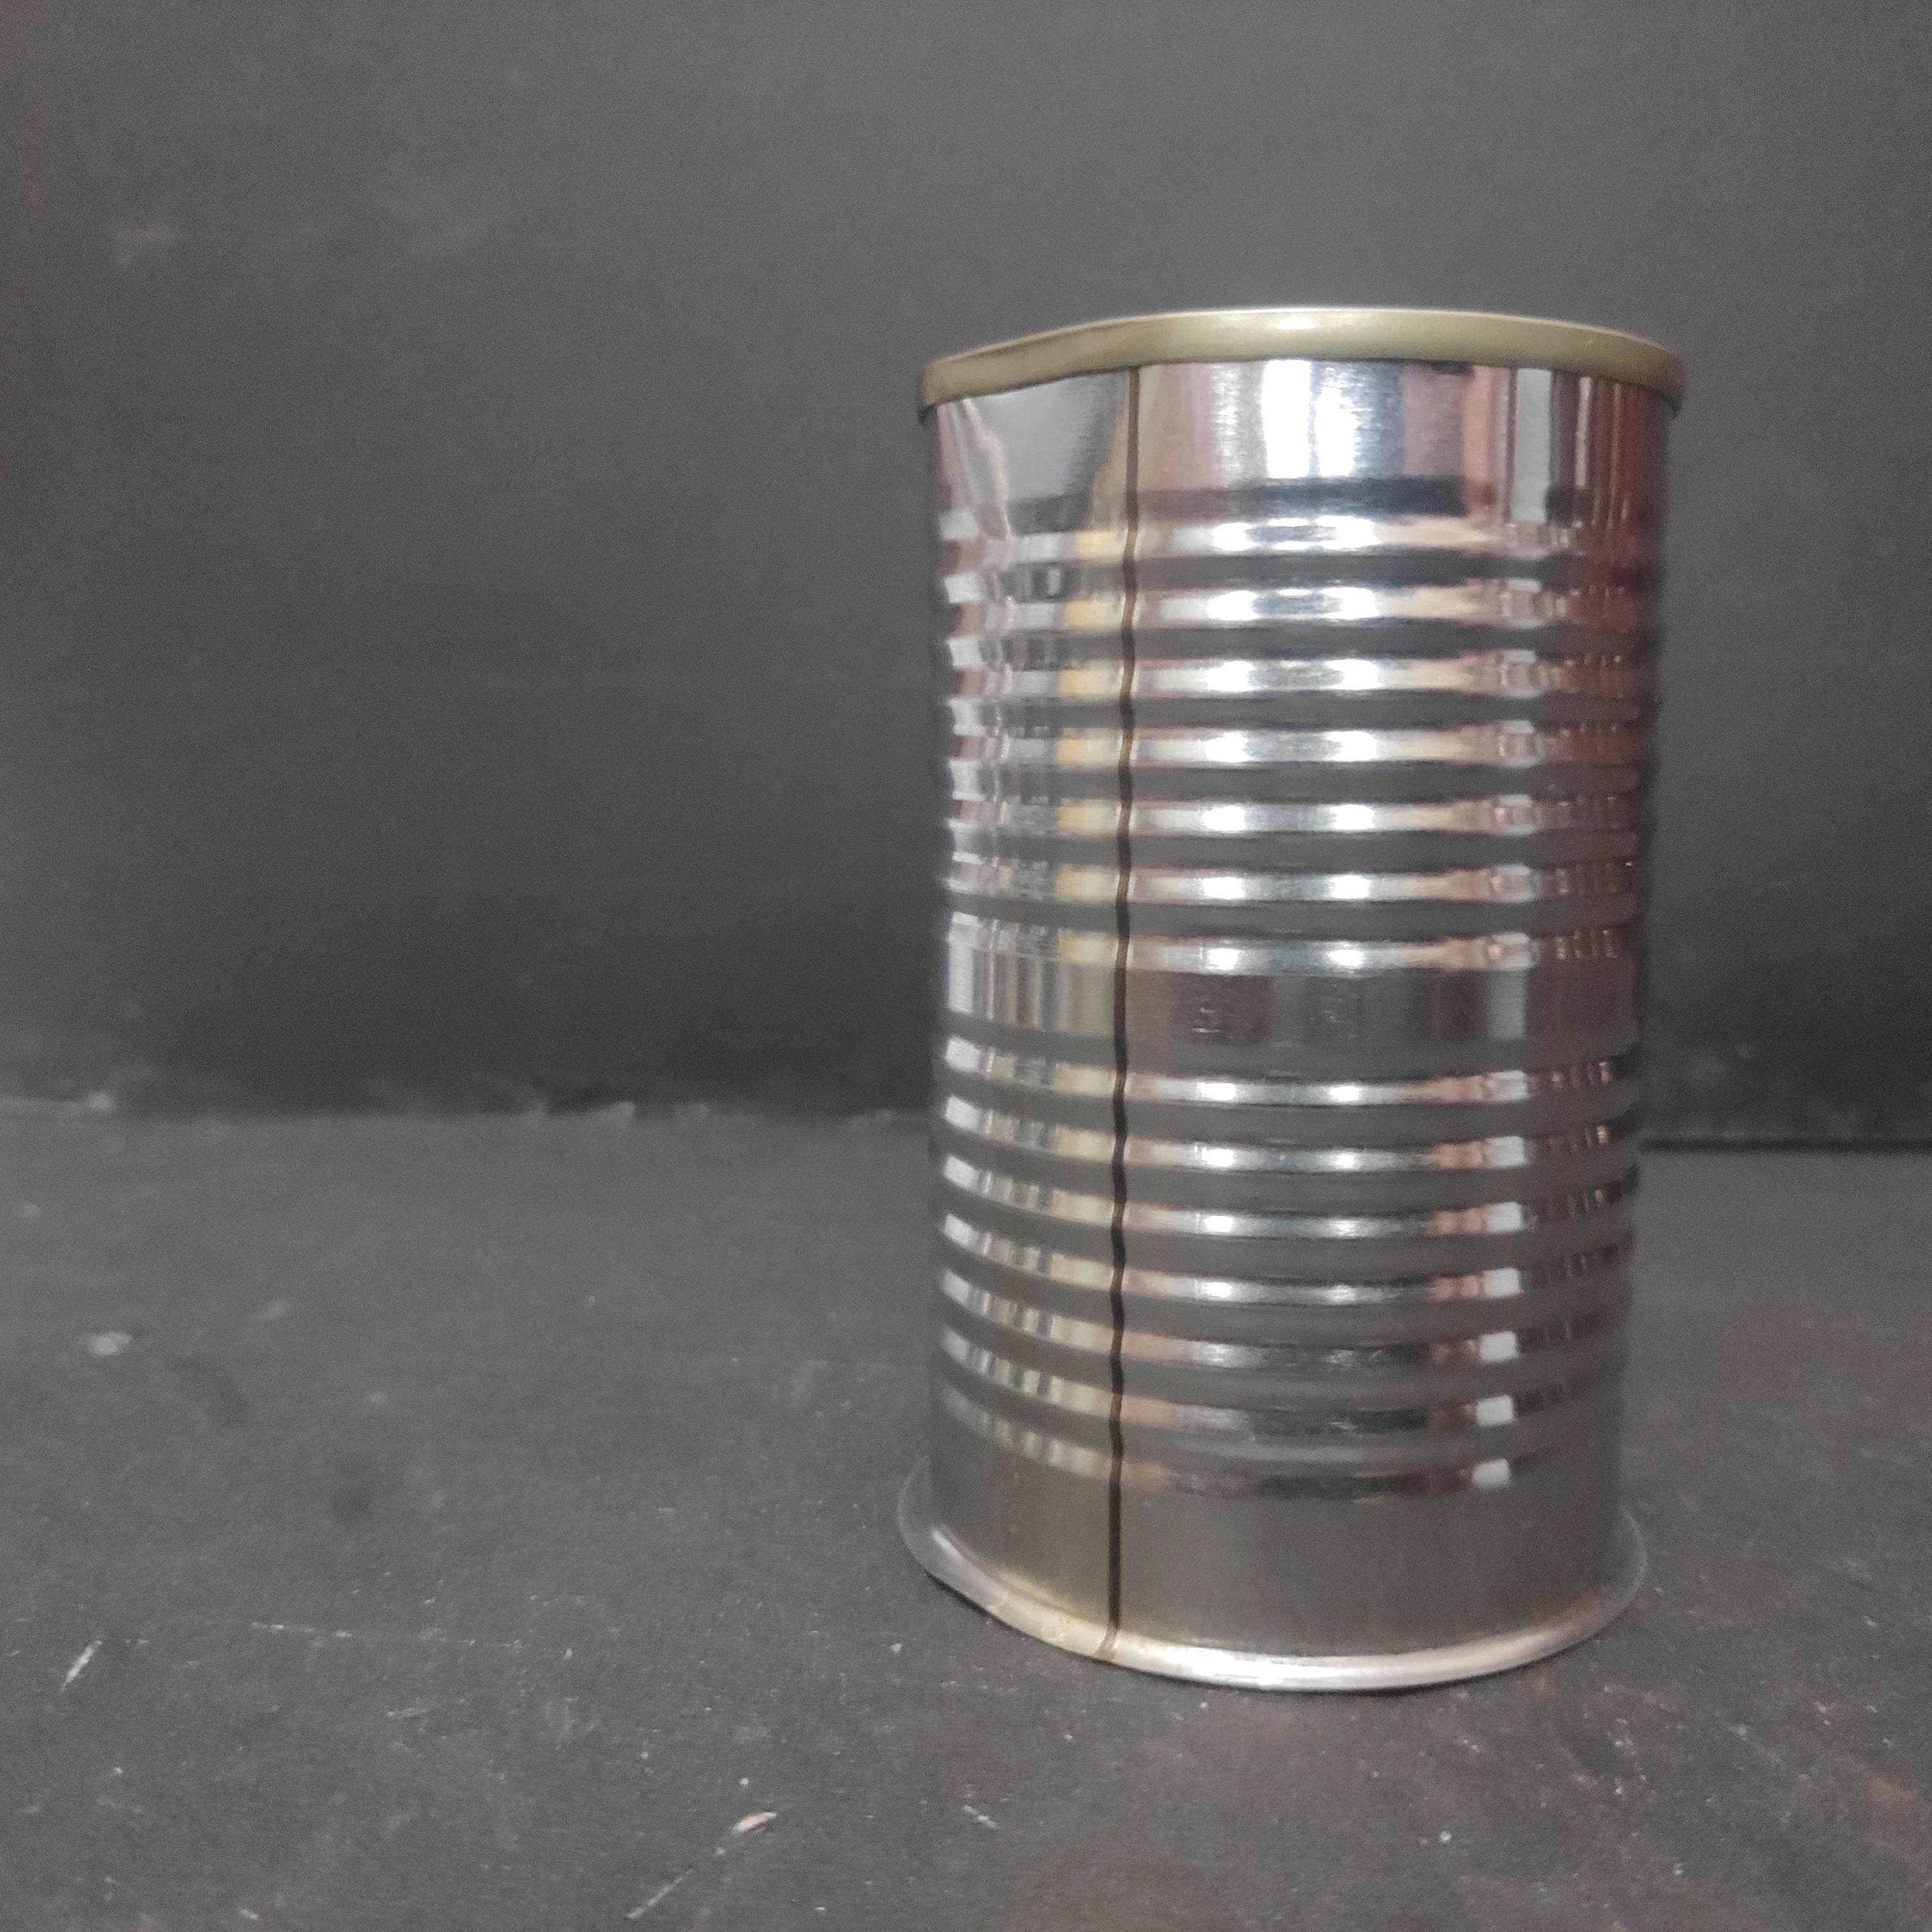Minor Defect: (899, 292, 1698, 1700)
